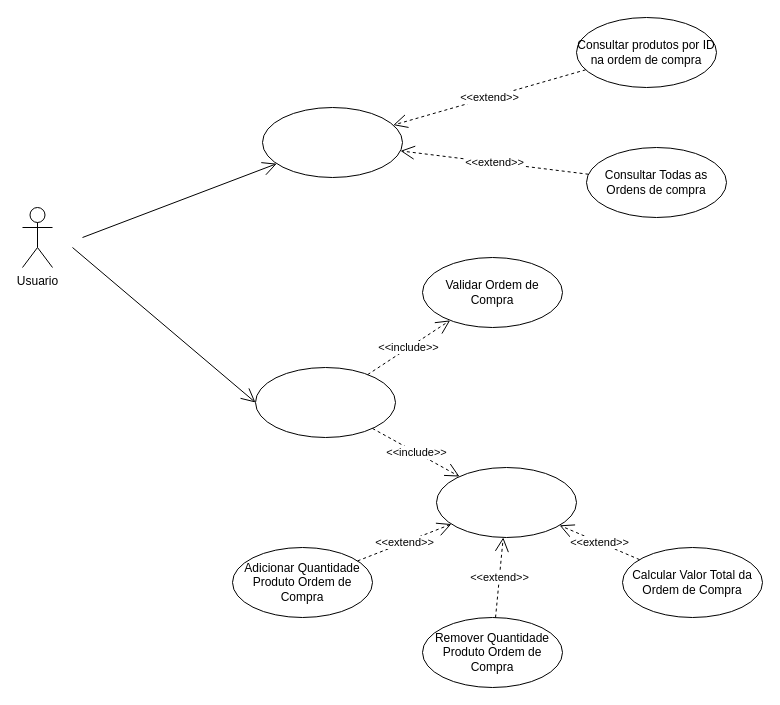
This 780x705 diagram has some shape labels left out. The box of each missing label's shape, as (x1, y1, x2, y2) in pixels:
Cadastrar Ordem de Compra: (436, 466, 576, 538)
Consultar Ordem Compra: (262, 106, 402, 178)
Manter Ordem de Compra: (254, 366, 396, 438)
